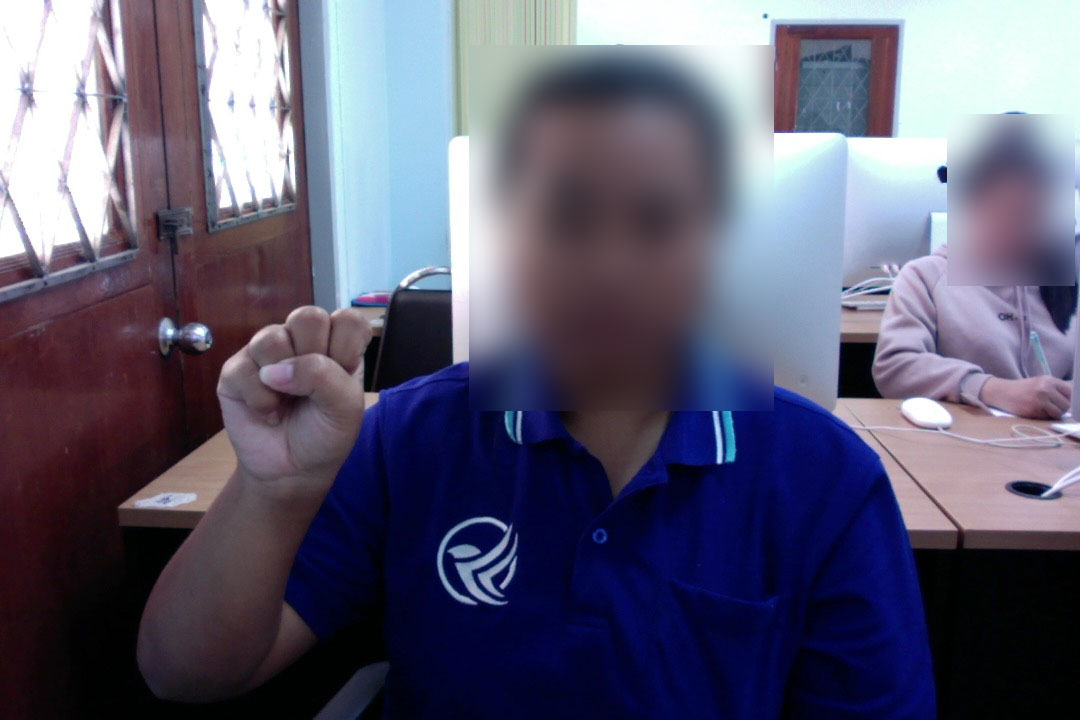sor: (208, 302, 378, 496)
